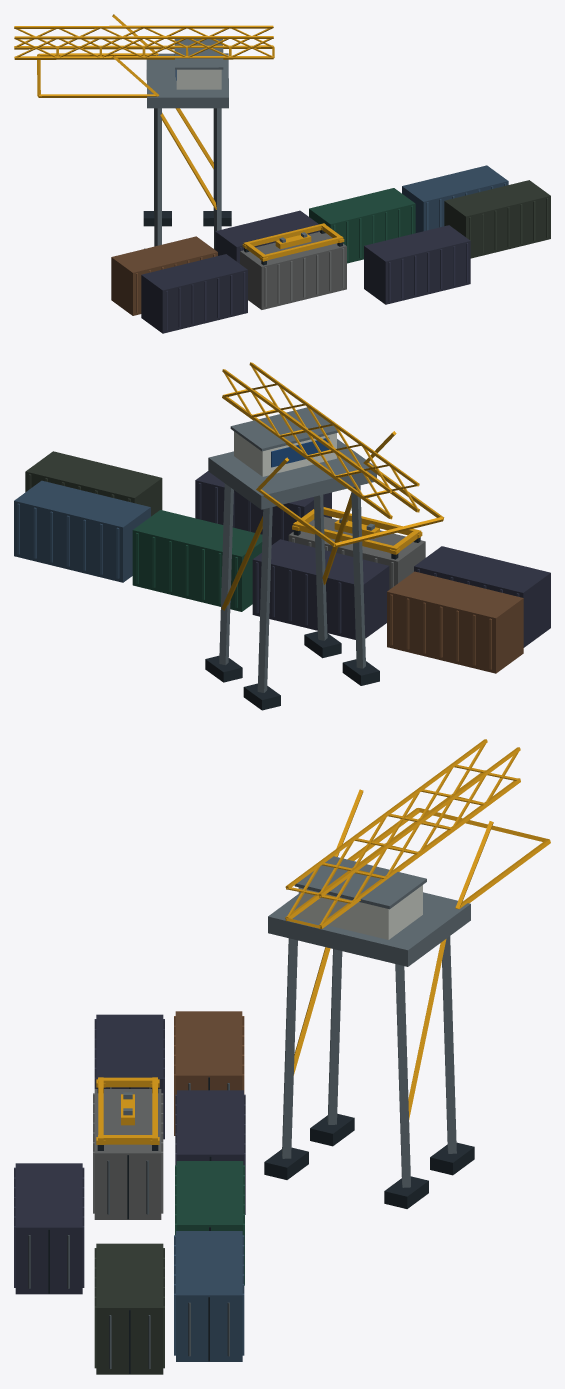
Rendered from gantry-crane-e-w-12.glb.
3 renders of one model, top to bottom at view 1: azimuth 30°, elevation 25°; view 2: azimuth 150°, elevation 25°; view 3: azimuth 270°, elevation 25°, orthographic. The views are drawn at different scales.
Visible parts, largest first — view 1: gantry-crane-e-w-12; view 2: gantry-crane-e-w-12; view 3: gantry-crane-e-w-12.
Boxes of the visible parts, x1,y1,x2,y2 form: gantry-crane-e-w-12: [14, 14, 550, 333]; gantry-crane-e-w-12: [14, 362, 550, 710]; gantry-crane-e-w-12: [14, 739, 550, 1374].
Size of the model in its own units: 63.95 by 31.18 by 46.61.
